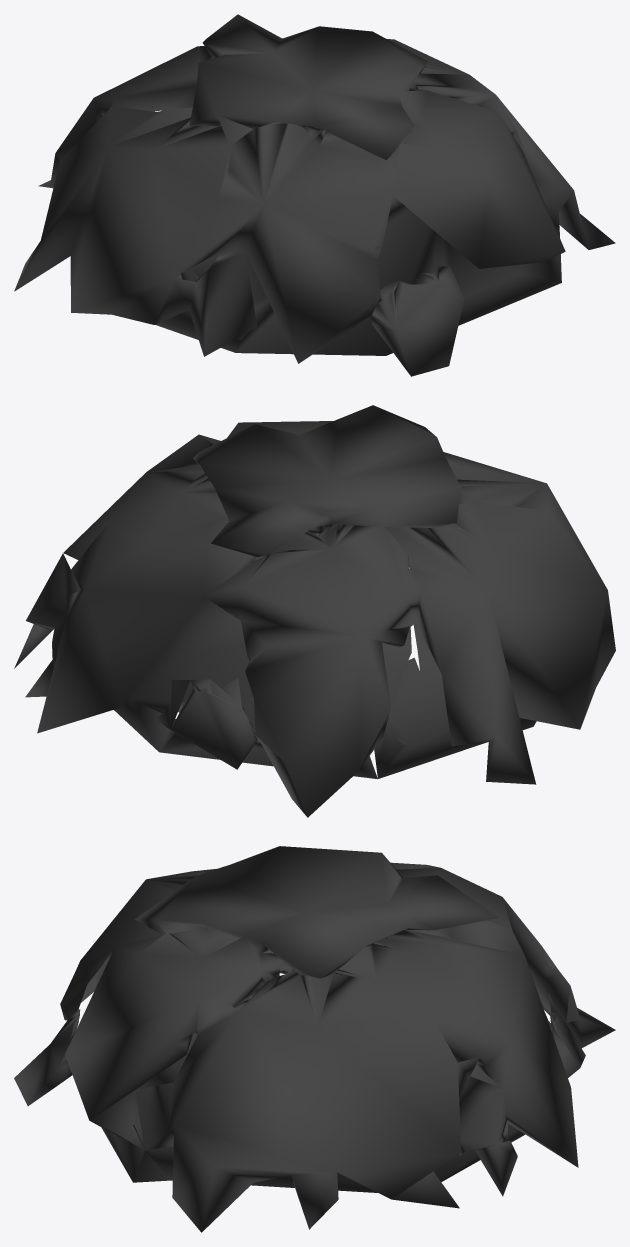
File: tree_bush.glb
The picture shows the model from 3 angles, top to bottom: view 1: azimuth 30°, elevation 25°; view 2: azimuth 150°, elevation 25°; view 3: azimuth 270°, elevation 25°; orthographic projection. The views are drawn at different scales.
Parts seen in each view (by area): view 1: geometry_0; view 2: geometry_0; view 3: geometry_0.
Part boxes in pixels (x1,y1,x2,y2): geometry_0: (14, 14, 615, 376); geometry_0: (14, 405, 615, 817); geometry_0: (14, 846, 615, 1232).
Size of the model in its own units: 1 by 0.3903 by 0.9921.
Materials: 1 (1 with a texture image).
